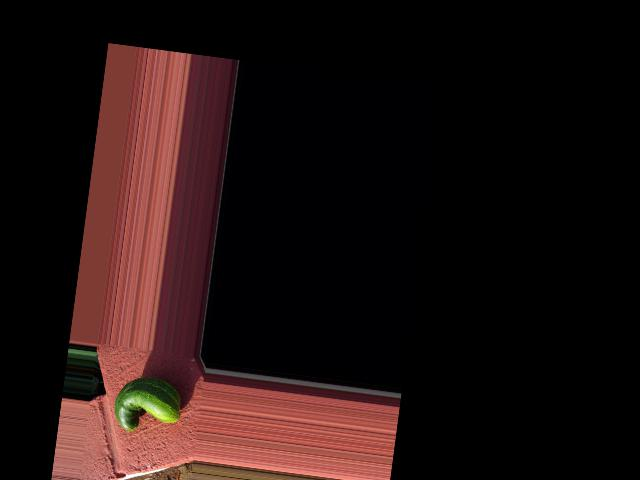cucumber: (111, 373, 184, 437)
